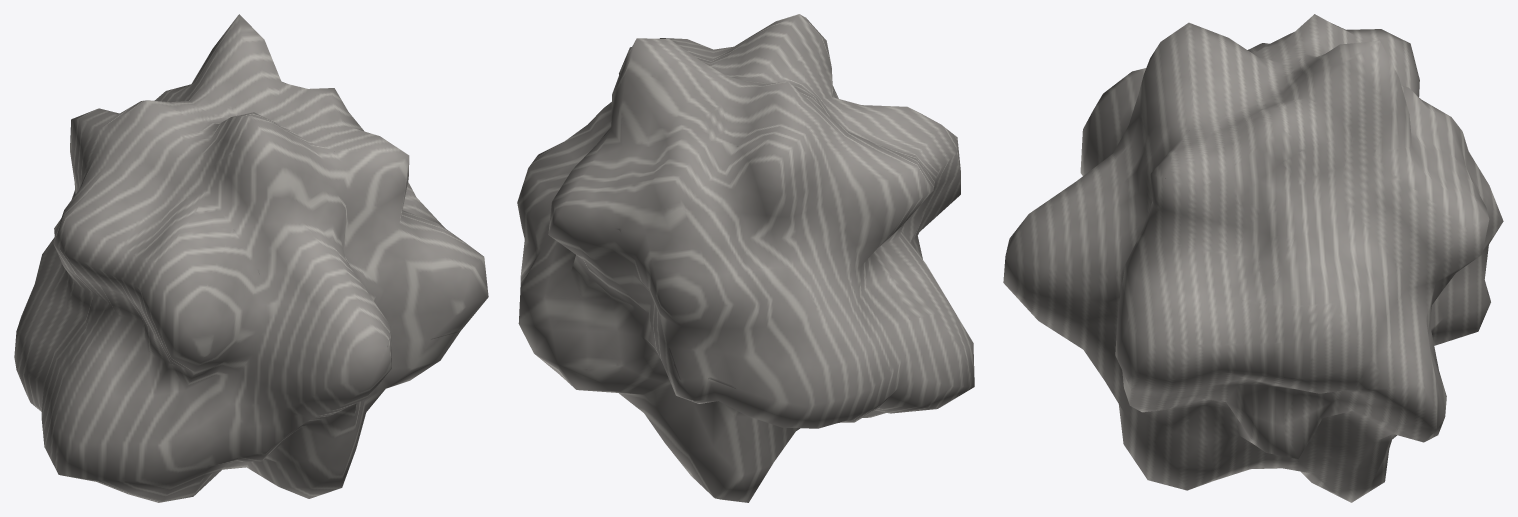
The model's file is rock_boulder_round.glb.
3 renders of one model, left to right at view 1: azimuth 30°, elevation 25°; view 2: azimuth 150°, elevation 25°; view 3: azimuth 270°, elevation 25°, orthographic. The views are drawn at different scales.
Visible parts, largest first — view 1: rock_boulder_round; view 2: rock_boulder_round; view 3: rock_boulder_round.
Boxes of the visible parts, box(x1,y1,x2,y2) form: rock_boulder_round: box(14, 14, 488, 502); rock_boulder_round: box(517, 14, 974, 502); rock_boulder_round: box(1003, 14, 1503, 502).
Bounding box in the file's own units: 1.21 × 1.29 × 1.17.
Materials: 1 (1 with a texture image).
